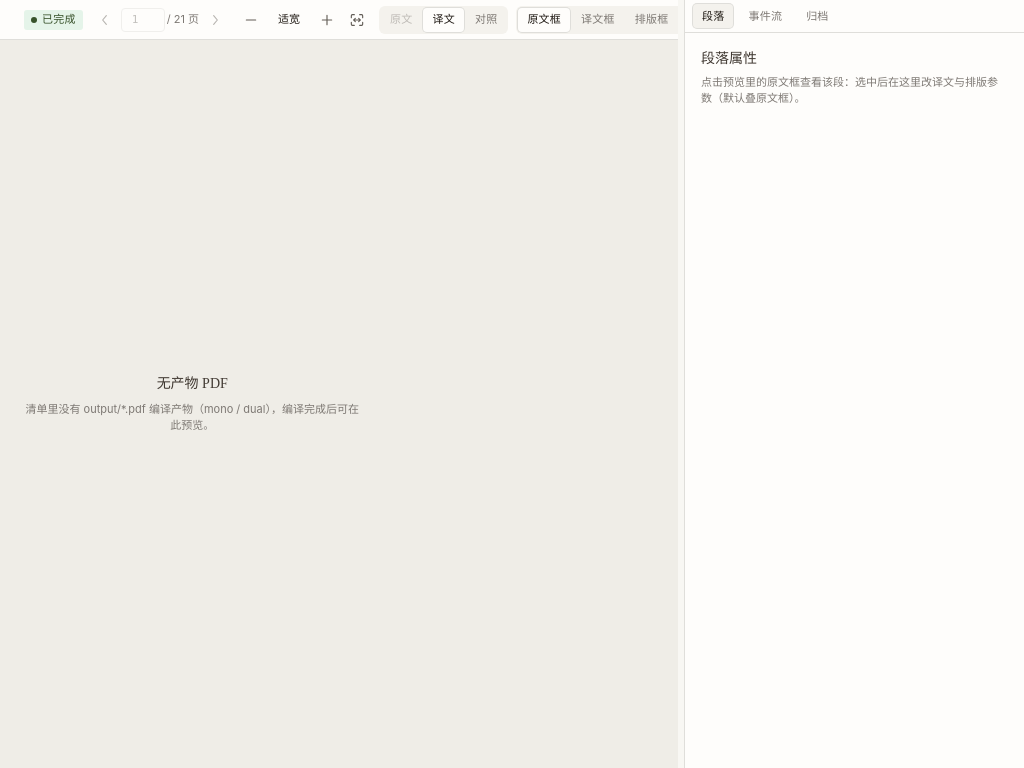
Scenario: 工作台（中栏预览 + 右栏检查器） › 预览区接 W05 真预览：工具条 + 无产物占位卡
The width and height of the screenshot is (1024, 768).
Check: the text "无产物 PDF" is shown, box [157,376,228,391]
Check: the element showing "已完成 / 21 页 适宽 原文 译文 对照 原文框 译文框 排版框 关" is shown, box [0,0,678,40]
Step 1. Click the tab "事件流" → (765, 16), box [740,4,791,28]
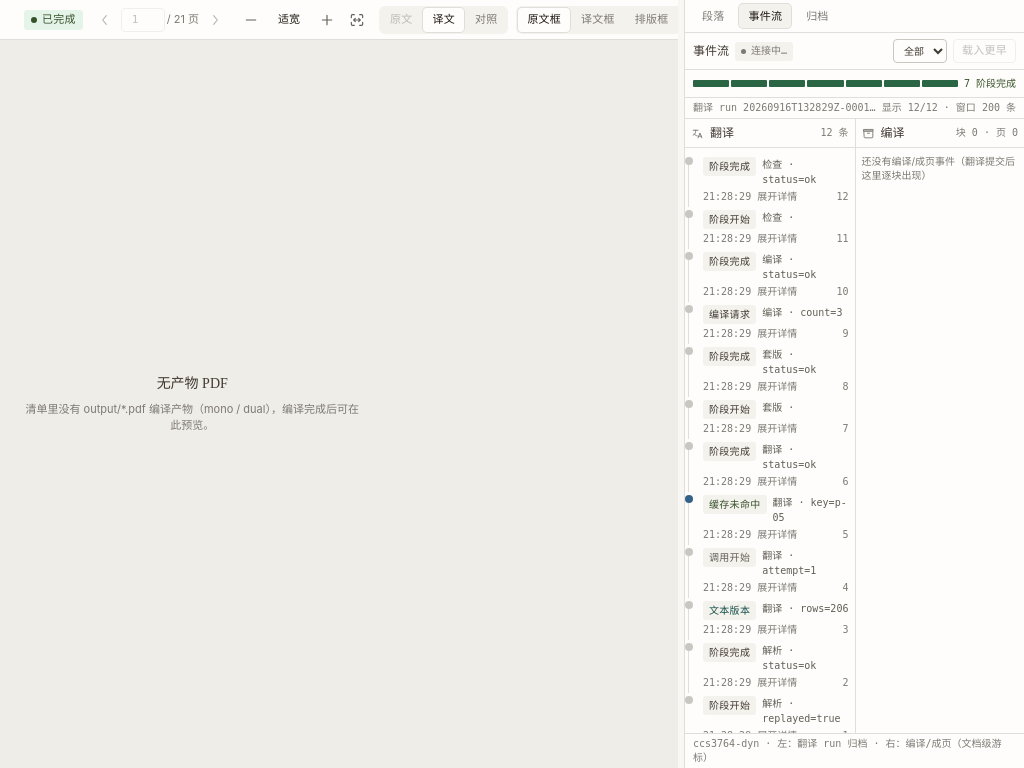
Check: the element named "事件流" is shown, box [685,33,1023,767]
